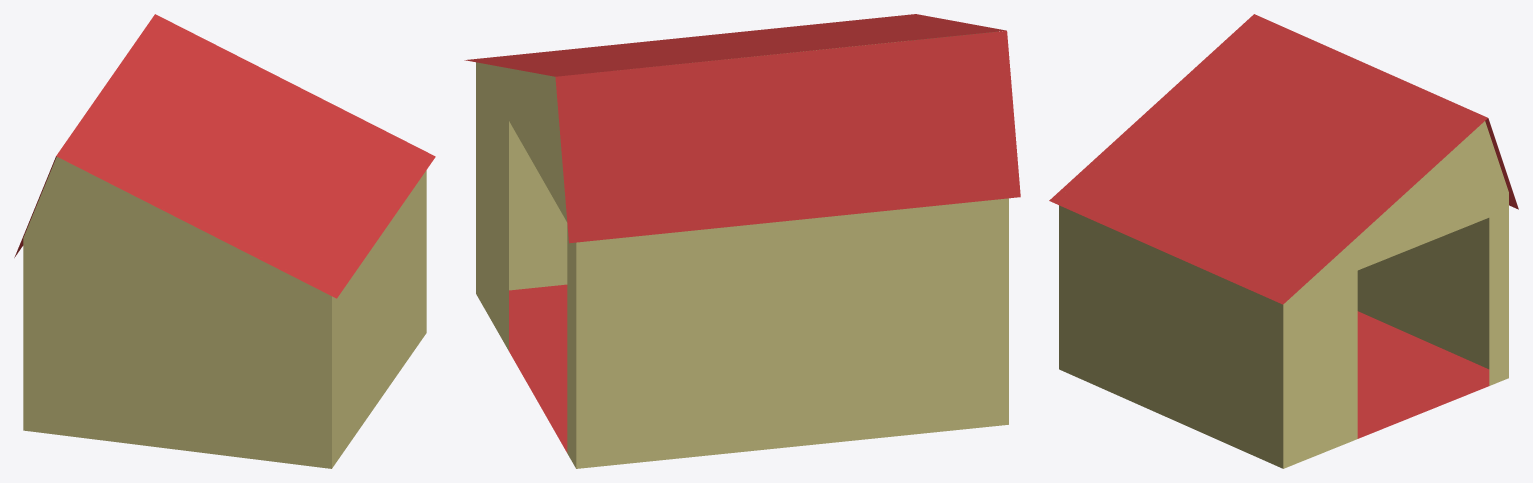
3 views of the same model, side by side, from view 1: azimuth 30°, elevation 25°; view 2: azimuth 150°, elevation 25°; view 3: azimuth 270°, elevation 25° (orthographic). The views are drawn at different scales.
Bounding box in the file's own units: 16.49 × 16.47 × 10.54.
